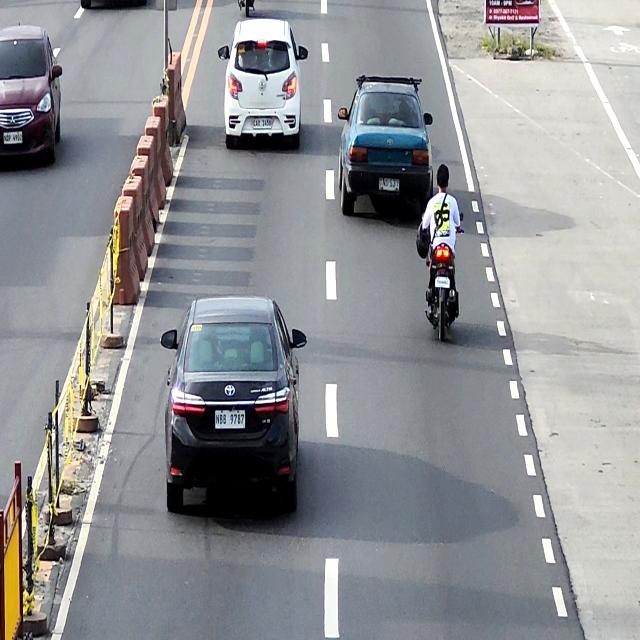Car: (160, 296, 308, 512), (338, 76, 434, 229), (217, 18, 309, 151), (0, 24, 64, 170)
License-Plate: (216, 411, 246, 428), (379, 178, 399, 192), (252, 117, 272, 131), (4, 131, 22, 145), (435, 276, 450, 288)
Motorcycle: (421, 209, 463, 343)
